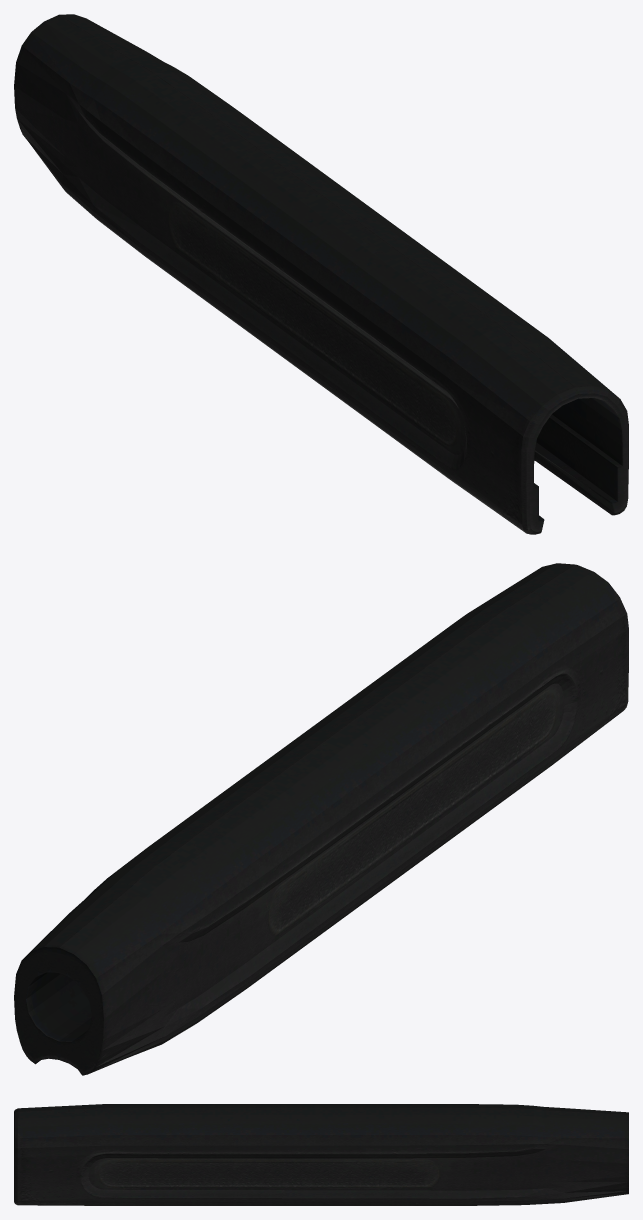
The picture shows the model from 3 angles, top to bottom: view 1: azimuth 30°, elevation 25°; view 2: azimuth 150°, elevation 25°; view 3: azimuth 270°, elevation 25°; orthographic projection. The views are drawn at different scales.
Visible parts, largest first — view 1: TW_56deed6ed2720b4c698b4583_PZ_Import; view 2: TW_56deed6ed2720b4c698b4583_PZ_Import; view 3: TW_56deed6ed2720b4c698b4583_PZ_Import.
Boxes of the visible parts, left/top/right/bottom form: TW_56deed6ed2720b4c698b4583_PZ_Import: left=14, top=14, right=628, bottom=534; TW_56deed6ed2720b4c698b4583_PZ_Import: left=14, top=563, right=628, bottom=1075; TW_56deed6ed2720b4c698b4583_PZ_Import: left=14, top=1104, right=628, bottom=1205.
Bounding box in the file's own units: 0.0231 × 0.1878 × 0.0286.
1 material, 1 textured.
